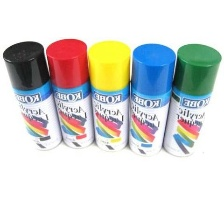aerosol_cans: (158, 40, 223, 158), (0, 38, 63, 152), (122, 40, 177, 158), (44, 35, 95, 152), (86, 38, 135, 154)
